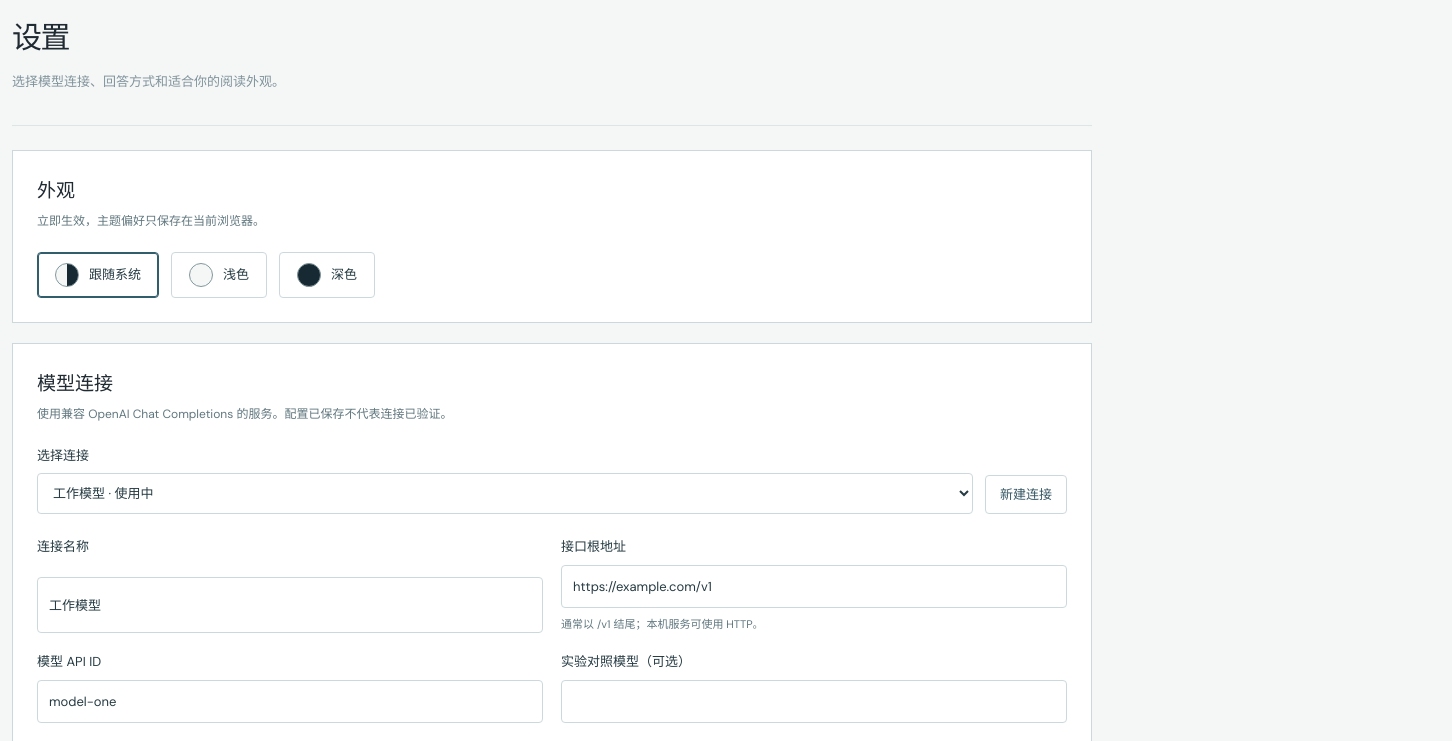
Test: keeps a saved key out of the form and omits blank key on save
Replace the text in the field labelled "连接名称" with "新名称" at [290, 606], box [37,578,543,634]
(page scrolled)
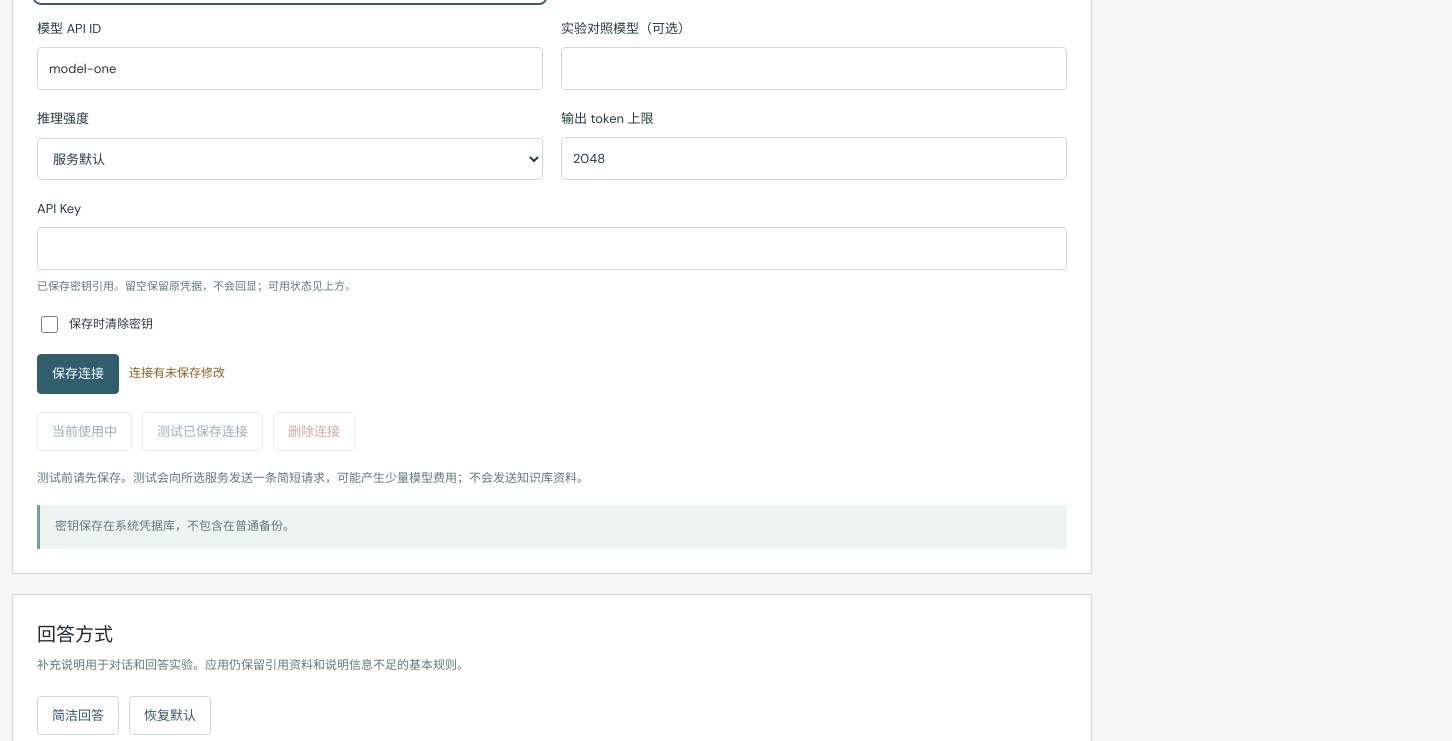
Check: the password field labelled "API Key" is empty, box [37,227,1067,270]
Click the button "保存连接".
click(78, 374)  # box [37,354,119,394]
(page scrolled)
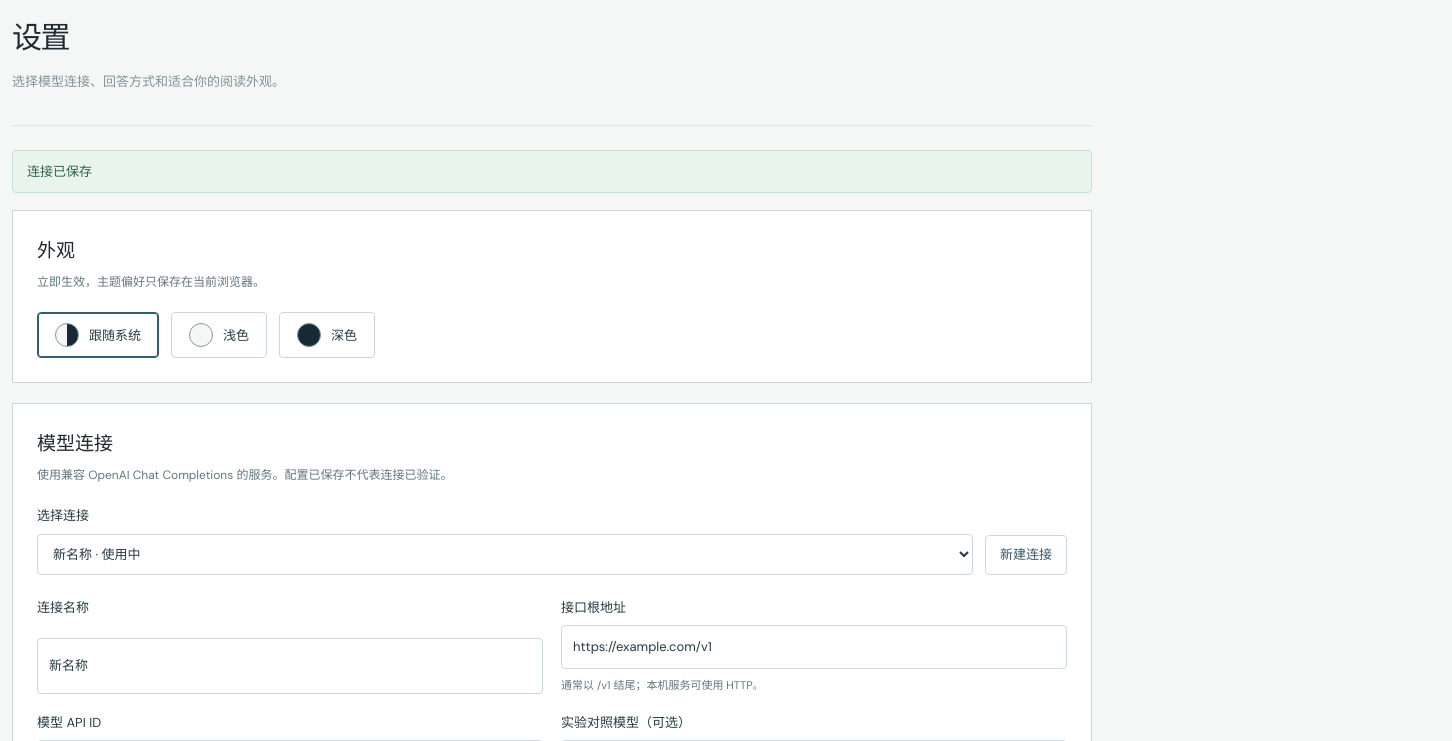
Check: the text "连接已保存" is shown, box [12,150,1092,193]
